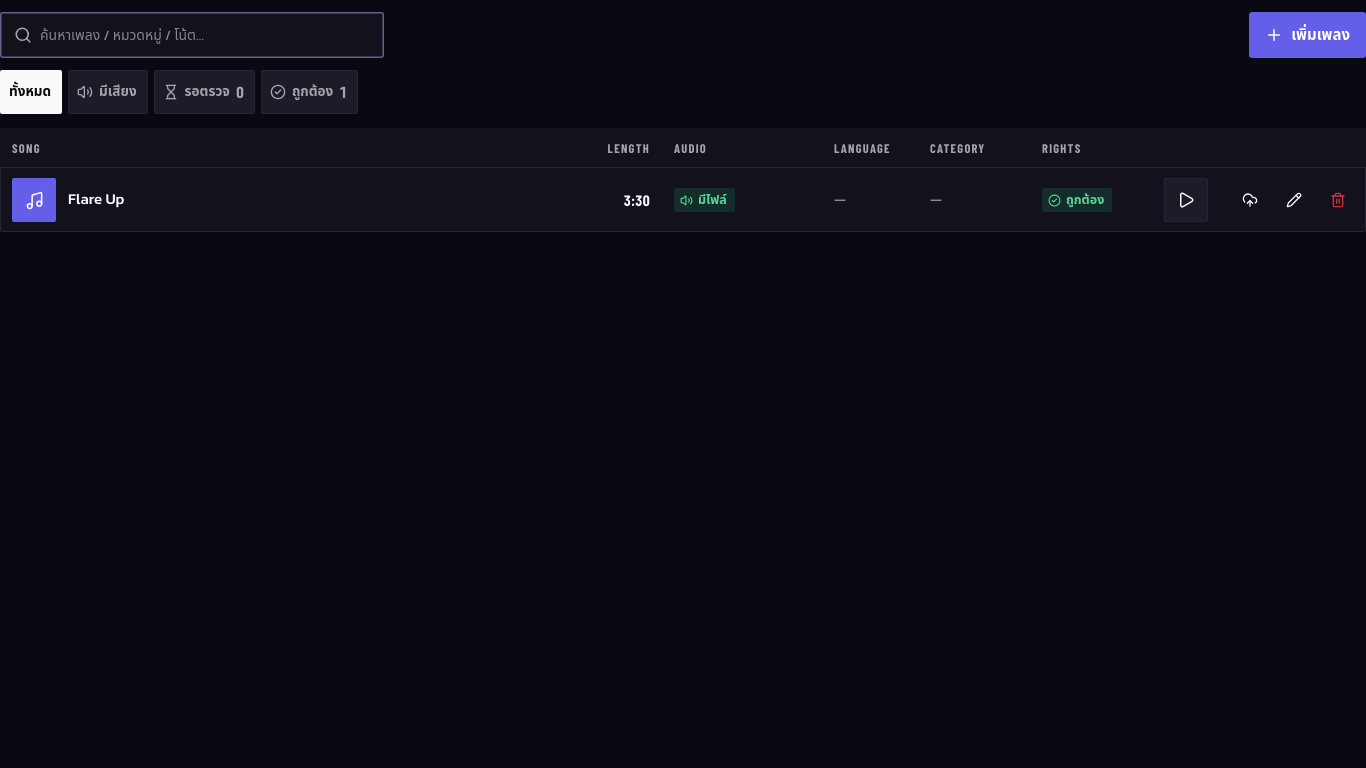
SongLibrary — delete a song that is in practice rooms › says how many rooms lose it
The width and height of the screenshot is (1366, 768).
Click the button named "ลบเพลง Flare Up" at (1338, 200), box [1316, 178, 1360, 222]
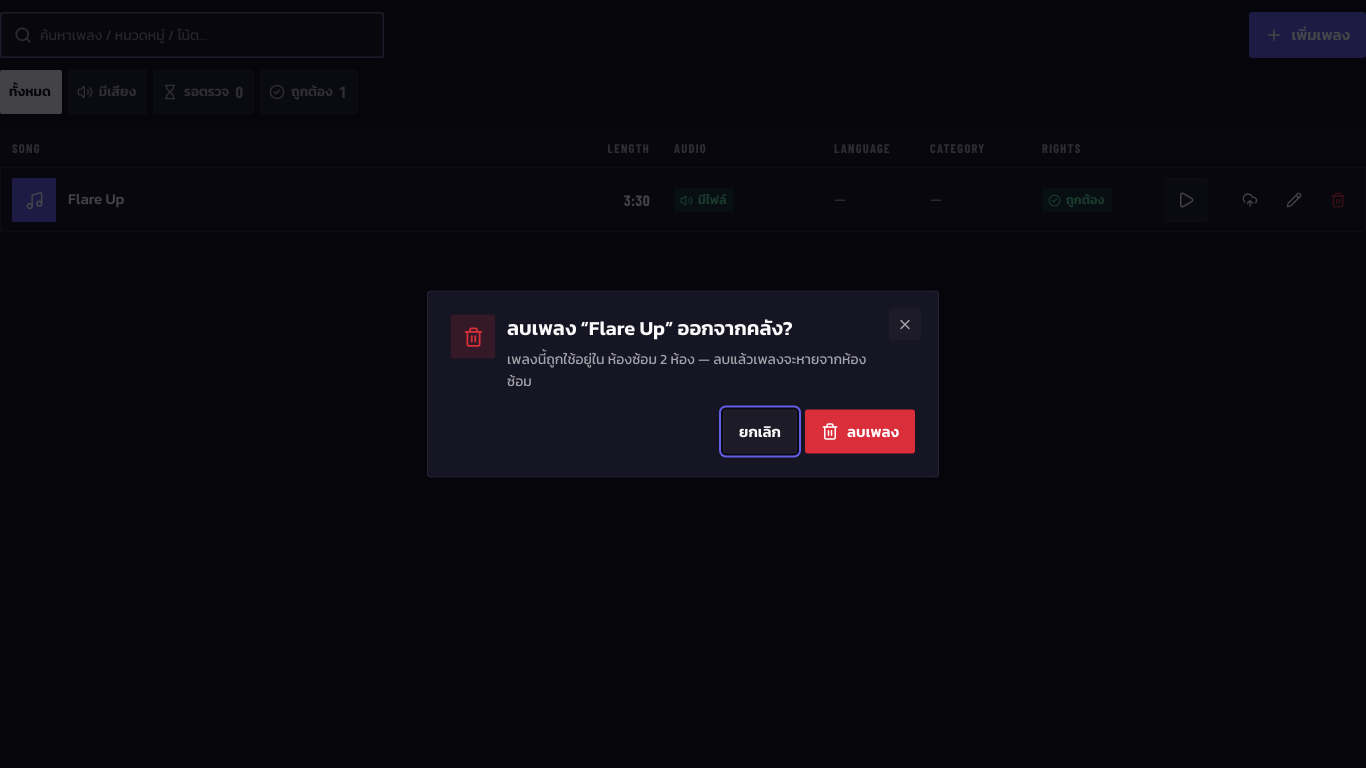
Check: the dialog shows "ห้องซ้อม 2 ห้อง", box [507, 348, 866, 392]
Check: the dialog shows "เพลงจะหายจากห้องซ้อม", box [507, 348, 866, 392]
